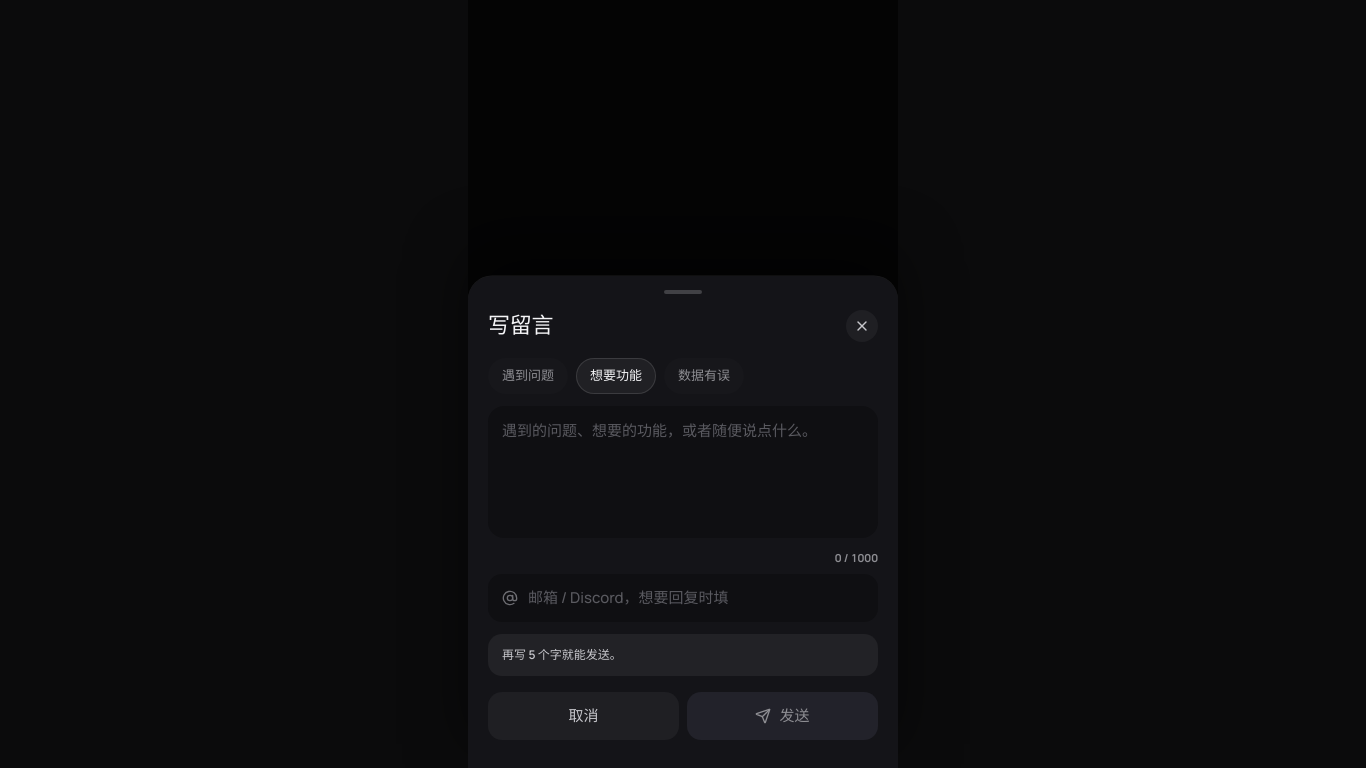
Test: FeedbackSheet › explains a 429 without losing the draft
The width and height of the screenshot is (1366, 768).
Type "这是一条正常长度的留言" into the text box named "留言内容". click: [683, 472]
box: [488, 406, 878, 538]
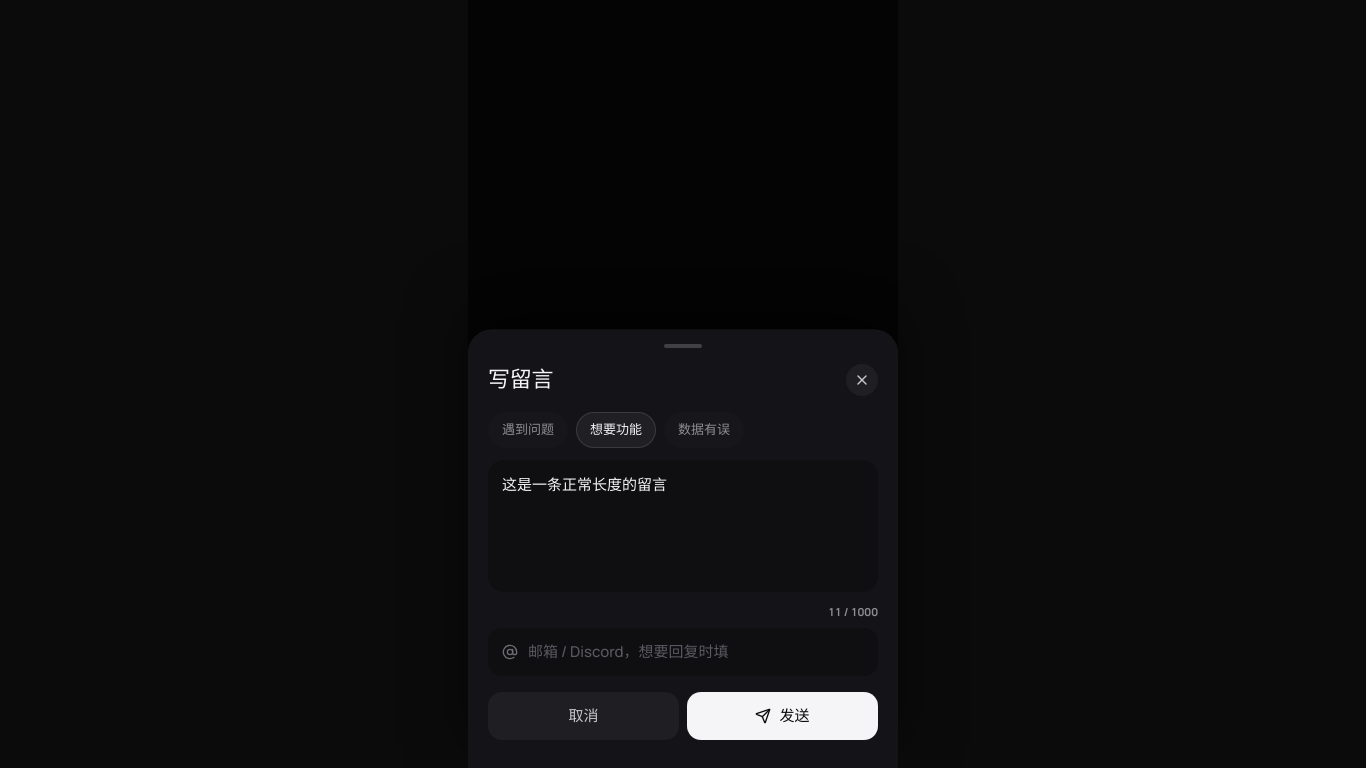
Click the button "发送". click: [782, 716]
box: [687, 692, 878, 740]
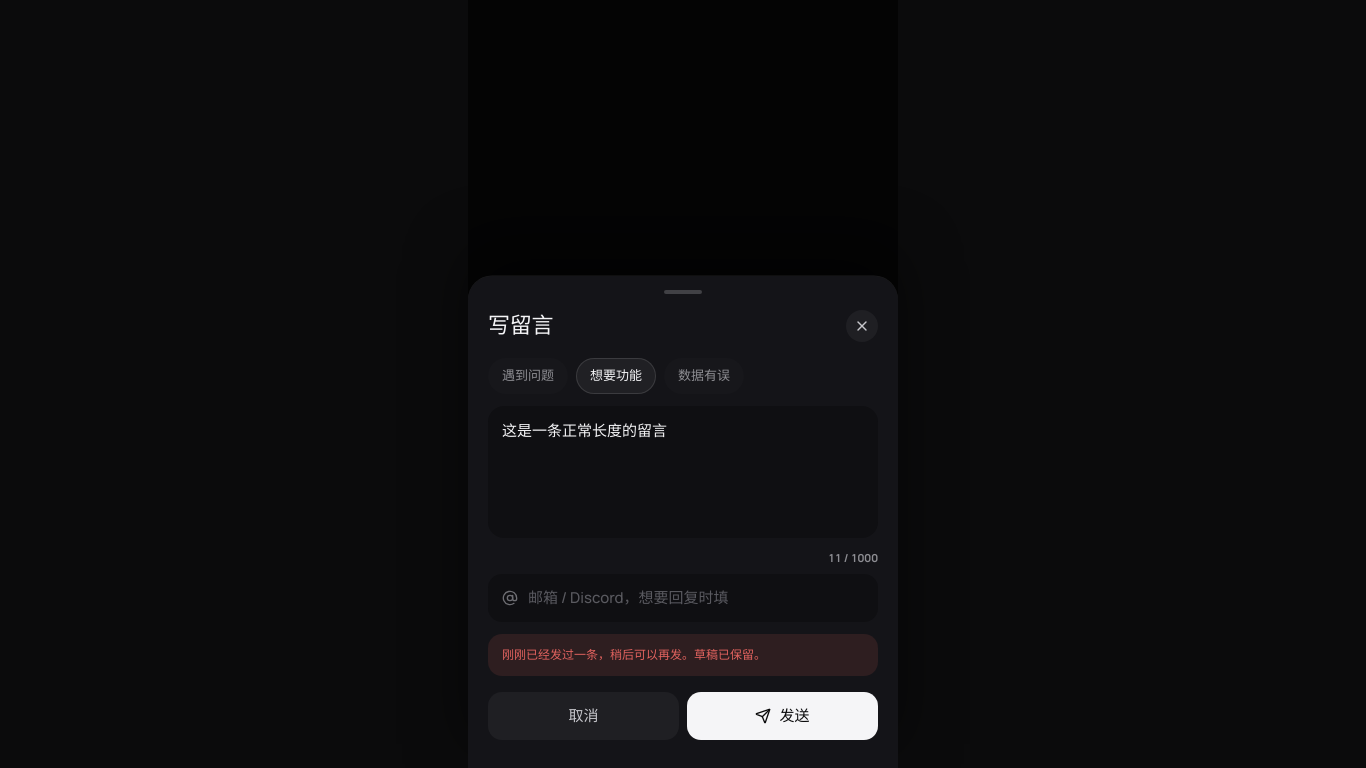
Check: the message reads "刚刚已经发过一条，稍后可以再发。草稿已保留。", box [502, 646, 766, 663]
